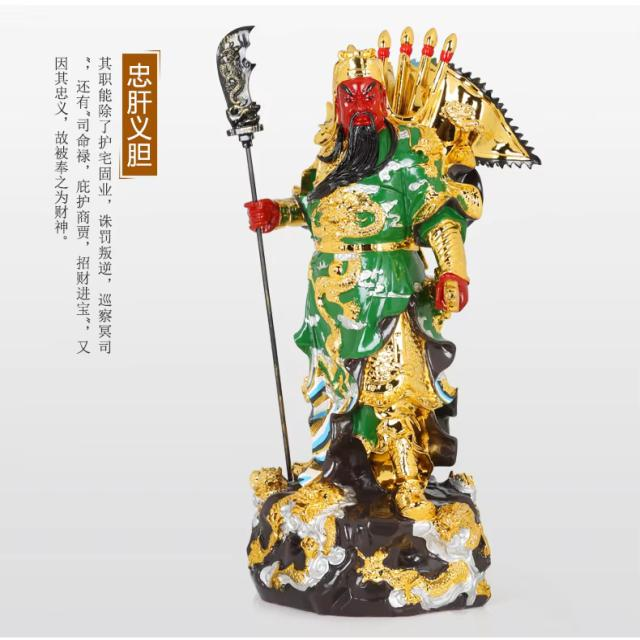Guan Yu: (216, 21, 489, 507)
